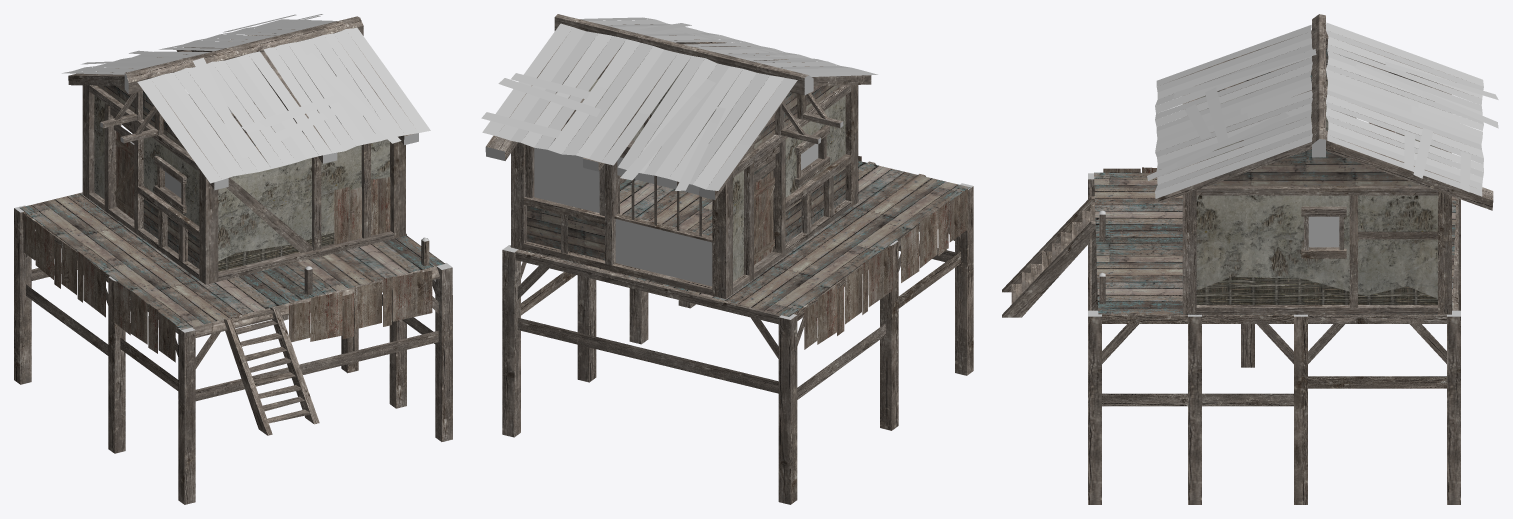
The model's file is House4_LOD2.fbx.
3 views of the same model, side by side, from view 1: azimuth 30°, elevation 25°; view 2: azimuth 150°, elevation 25°; view 3: azimuth 270°, elevation 25° (orthographic). The views are drawn at different scales.
Visible parts, largest first — view 1: Base, Stairs, Doors; view 2: Base, Doors; view 3: Base, Stairs.
Part boxes in pixels (x1,y1,x2,y2): Base: [14, 14, 452, 504]; Stairs: [224, 306, 319, 435]; Doors: [114, 131, 134, 219]; Base: [481, 14, 973, 504]; Doors: [754, 170, 774, 264]; Base: [1088, 14, 1498, 504]; Stairs: [1002, 196, 1095, 317].
Bounding box in the file's own units: 8.95 × 10.01 × 12.08.
